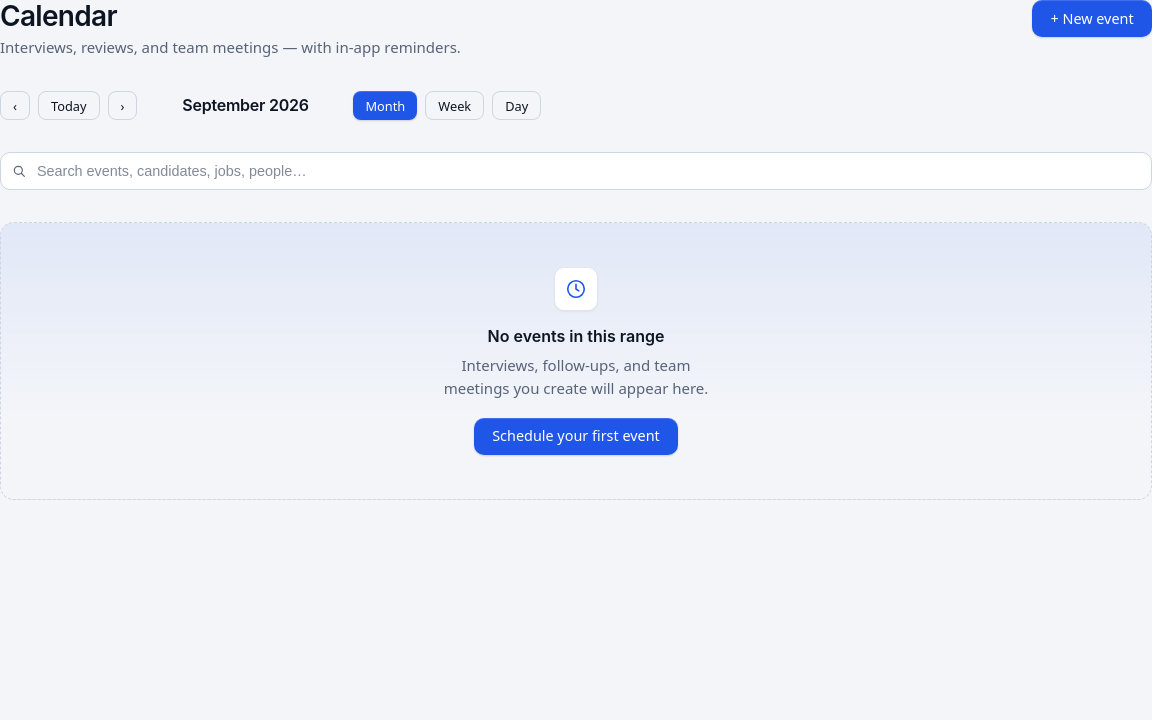
Test case: CalendarPage › opens the attendee popover on focus and closes it on an outside click
Expected: the text "No events in this range" is shown, x1=488 y1=324 x2=664 y2=349
Click the button "+ New event". click: (1092, 19)
box: x1=1032 y1=0 x2=1151 y2=37
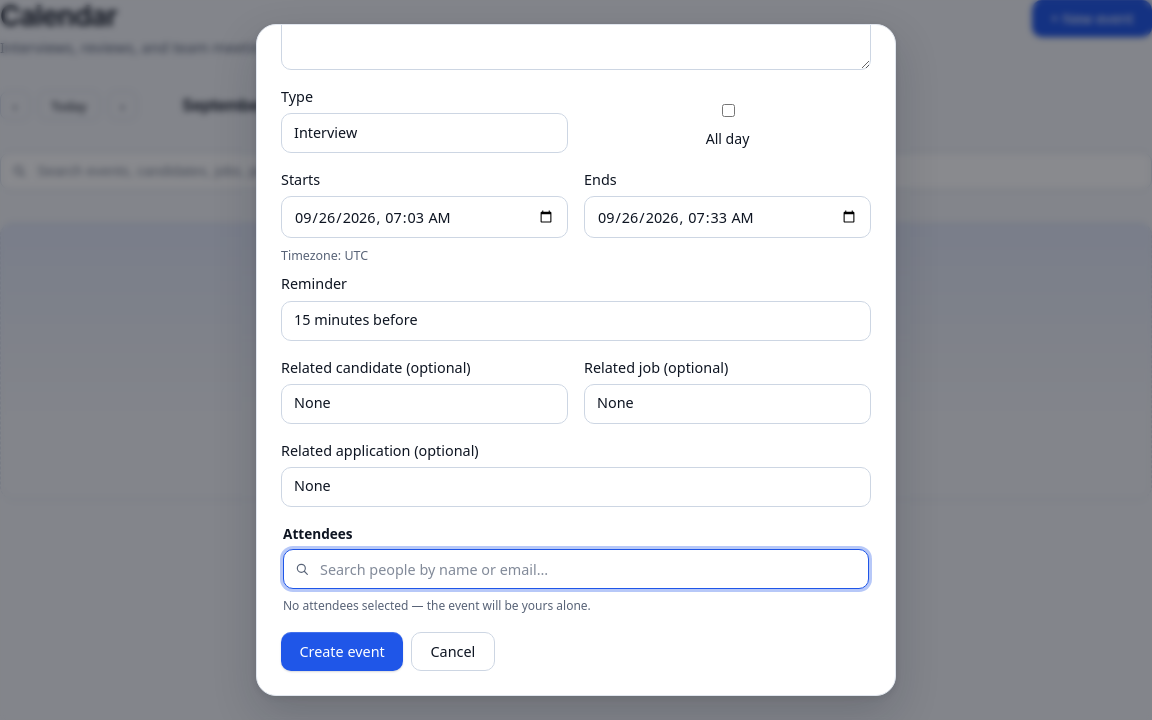
Focus the dropdown named "Search attendees". click: (576, 569)
box: x1=283 y1=549 x2=869 y2=589
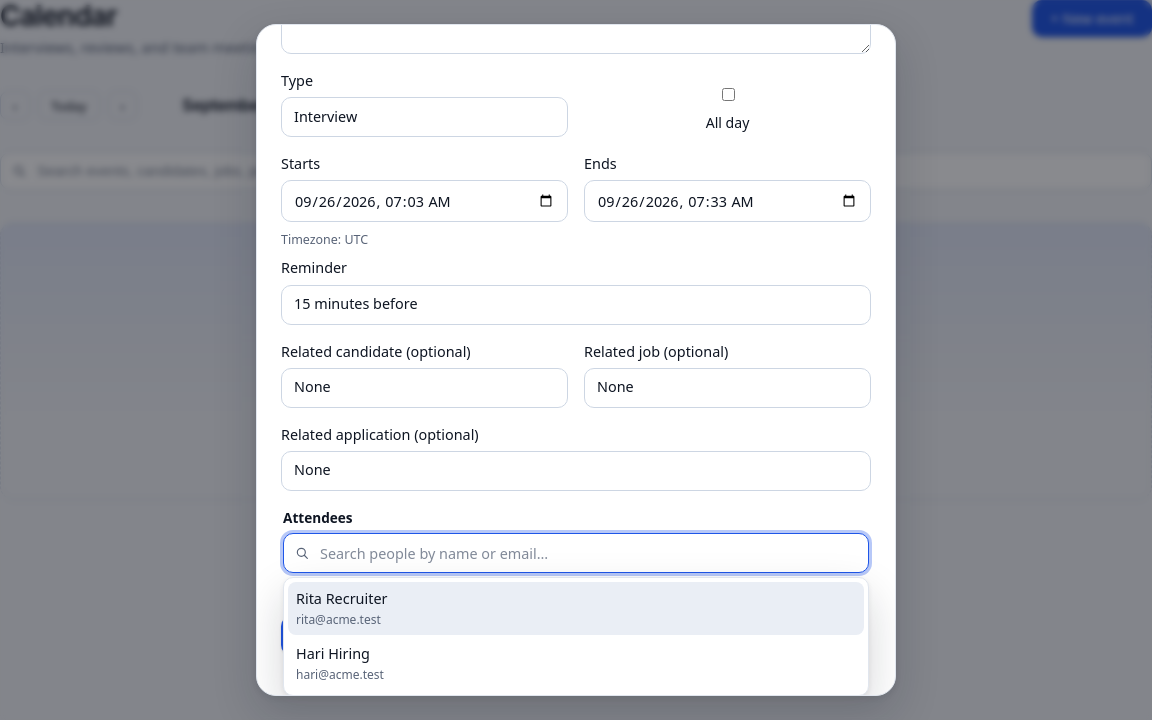
Result: the option "Rita Recruiter rita@acme.test" is shown at x1=288 y1=582 x2=864 y2=635
Result: the option "Hari Hiring hari@acme.test" is shown at x1=296 y1=644 x2=384 y2=683
Result: the dropdown named "Search attendees" is expanded at x1=283 y1=533 x2=869 y2=573
Press the mouse on the element that starts with "Calendar" at (576, 250), box x1=0 y1=0 x2=1151 y2=500
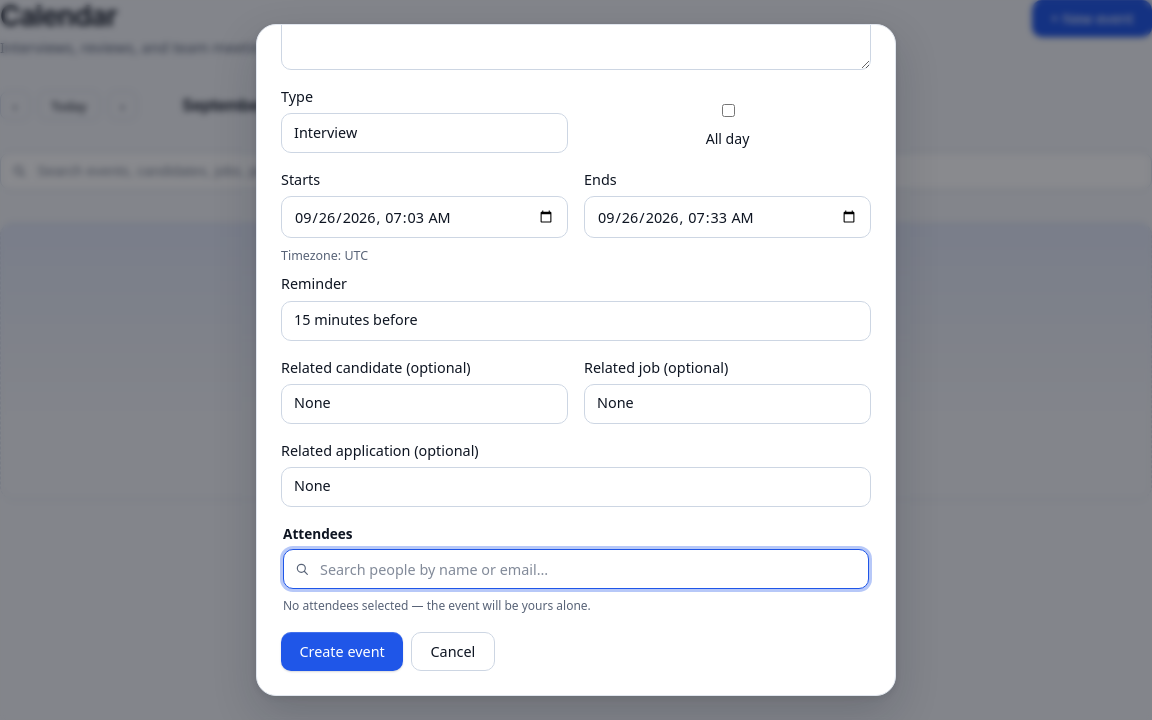
Result: the list is gone
Result: the dropdown named "Search attendees" is collapsed at x1=283 y1=549 x2=869 y2=589
